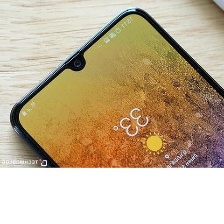phone: (3, 2, 224, 224)
